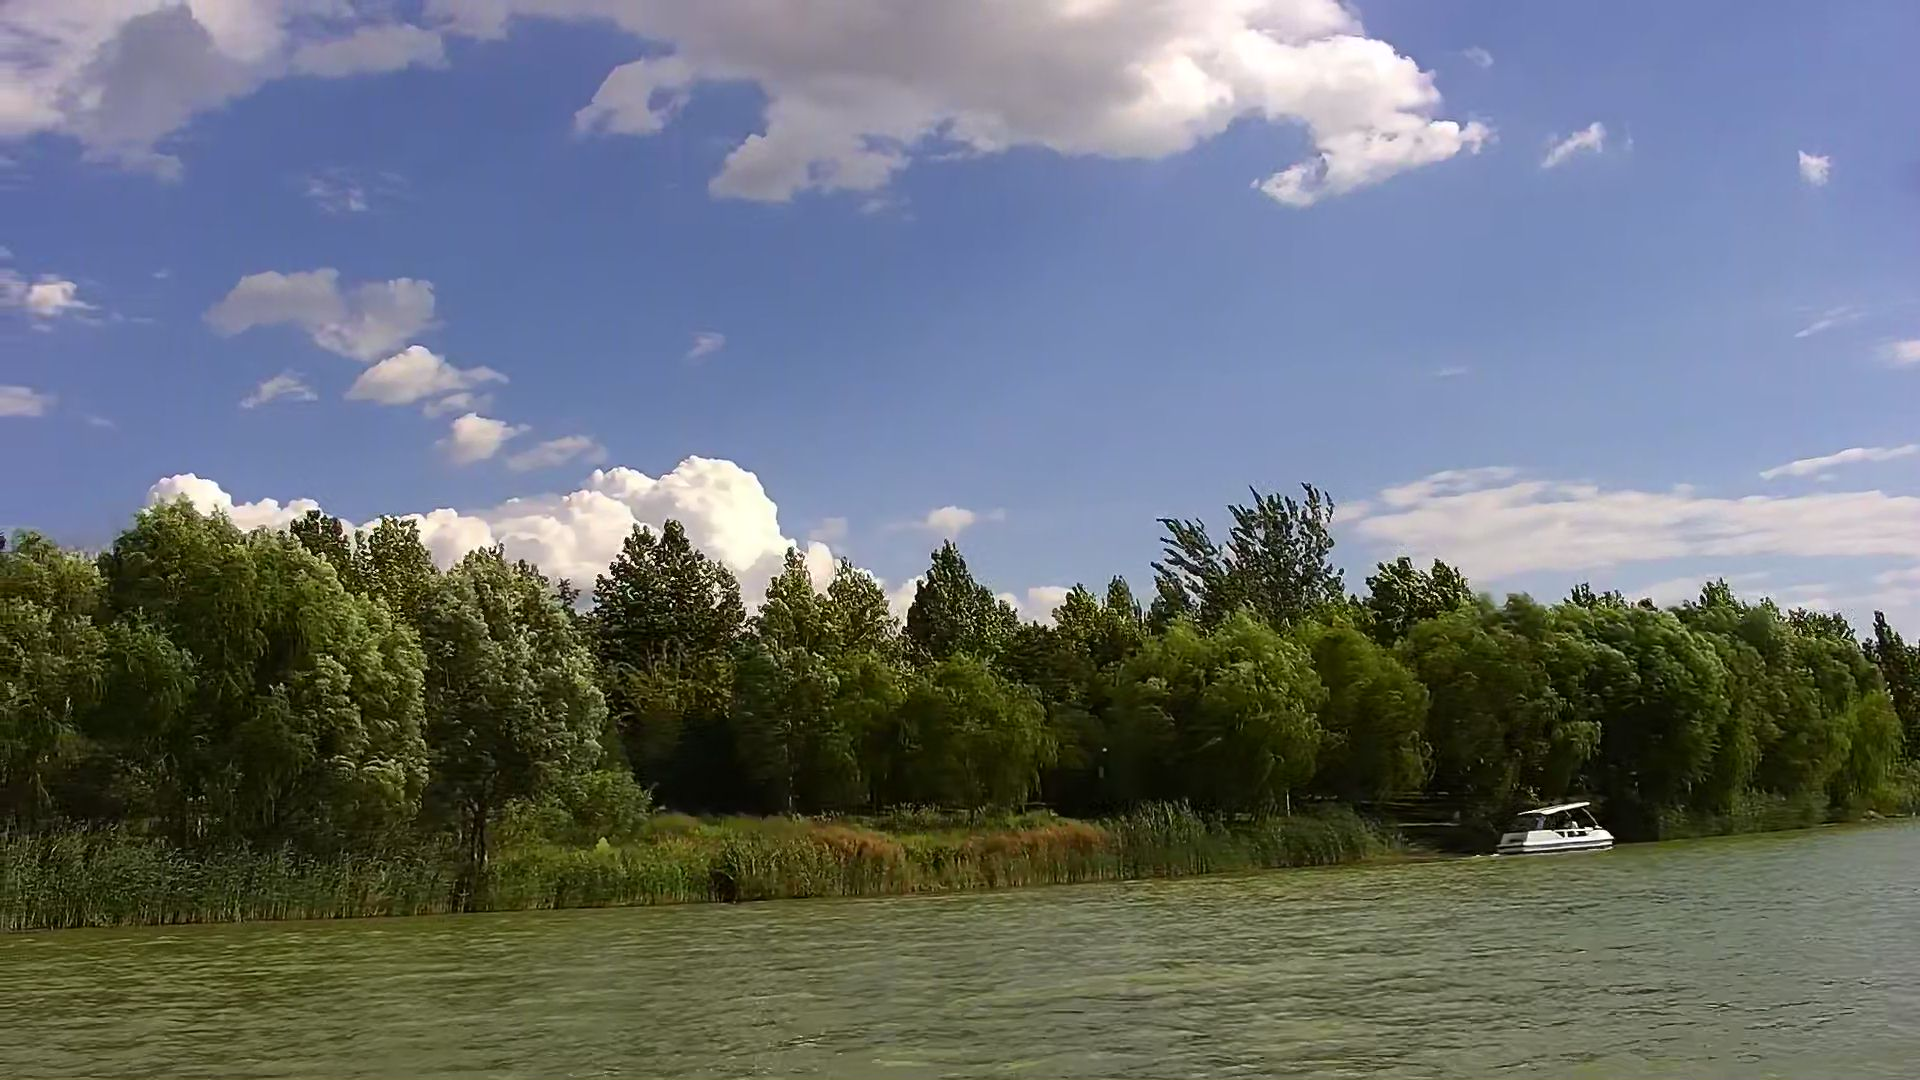boat: (1501, 799, 1615, 858)
